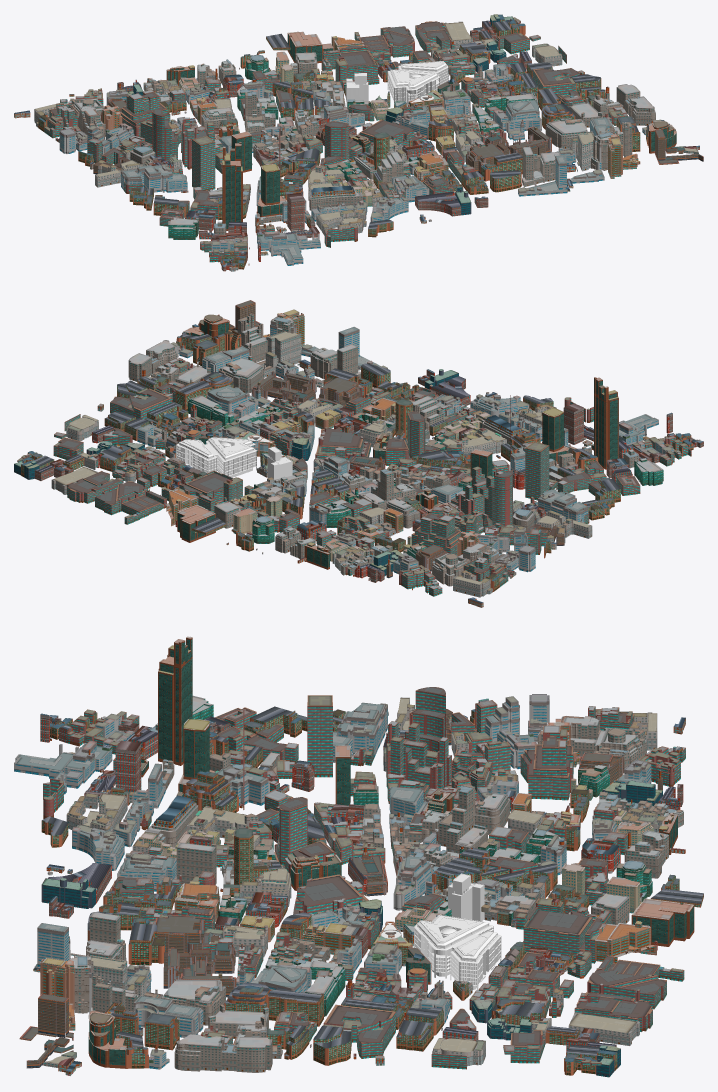
3 renders of one model, top to bottom at view 1: azimuth 30°, elevation 25°; view 2: azimuth 150°, elevation 25°; view 3: azimuth 270°, elevation 25°, orthographic. The views are drawn at different scales.
Visible parts, largest first — view 1: Buildings_3_202233232221331_buildings_01_INDEX0, Buildings_1_202233232221313_buildings_01_INDEX0, Buildings_2_202233232221330_buildings_01_INDEX0, Buildings_9_202233232221312_buildings_01_INDEX0, Buildings_4_202233232221312_landmark_gb_ldn_bloomberg01_INDE, Buildings_5_202233232221312_landmark_gb_ldn_stswithins_INDEX; view 2: Buildings_2_202233232221330_buildings_01_INDEX0, Buildings_1_202233232221313_buildings_01_INDEX0, Buildings_3_202233232221331_buildings_01_INDEX0, Buildings_9_202233232221312_buildings_01_INDEX0, Buildings_4_202233232221312_landmark_gb_ldn_bloomberg01_INDE, Buildings_5_202233232221312_landmark_gb_ldn_stswithins_INDEX; view 3: Buildings_1_202233232221313_buildings_01_INDEX0, Buildings_2_202233232221330_buildings_01_INDEX0, Buildings_3_202233232221331_buildings_01_INDEX0, Buildings_9_202233232221312_buildings_01_INDEX0, Buildings_4_202233232221312_landmark_gb_ldn_bloomberg01_INDE, Buildings_5_202233232221312_landmark_gb_ldn_stswithins_INDEX.
Part boxes in pixels (x1,y1,x2,y2): Buildings_3_202233232221331_buildings_01_INDEX0: [124, 121, 460, 271]; Buildings_1_202233232221313_buildings_01_INDEX0: [360, 68, 703, 215]; Buildings_2_202233232221330_buildings_01_INDEX0: [14, 54, 356, 190]; Buildings_9_202233232221312_buildings_01_INDEX0: [254, 14, 584, 127]; Buildings_4_202233232221312_landmark_gb_ldn_bloomberg01_INDE: [387, 61, 448, 106]; Buildings_5_202233232221312_landmark_gb_ldn_stswithins_INDEX: [346, 73, 368, 107]; Buildings_2_202233232221330_buildings_01_INDEX0: [240, 455, 592, 607]; Buildings_1_202233232221313_buildings_01_INDEX0: [117, 300, 458, 459]; Buildings_3_202233232221331_buildings_01_INDEX0: [345, 376, 703, 523]; Buildings_9_202233232221312_buildings_01_INDEX0: [14, 396, 330, 546]; Buildings_4_202233232221312_landmark_gb_ldn_bloomberg01_INDE: [176, 437, 256, 477]; Buildings_5_202233232221312_landmark_gb_ldn_stswithins_INDEX: [267, 446, 292, 480]; Buildings_1_202233232221313_buildings_01_INDEX0: [19, 870, 395, 1075]; Buildings_2_202233232221330_buildings_01_INDEX0: [343, 687, 685, 902]; Buildings_3_202233232221331_buildings_01_INDEX0: [14, 636, 378, 906]; Buildings_9_202233232221312_buildings_01_INDEX0: [342, 870, 703, 1077]; Buildings_4_202233232221312_landmark_gb_ldn_bloomberg01_INDE: [414, 914, 501, 990]; Buildings_5_202233232221312_landmark_gb_ldn_stswithins_INDEX: [448, 873, 484, 921].
Size of the model in its own units: 128188 by 21780 by 103274.
